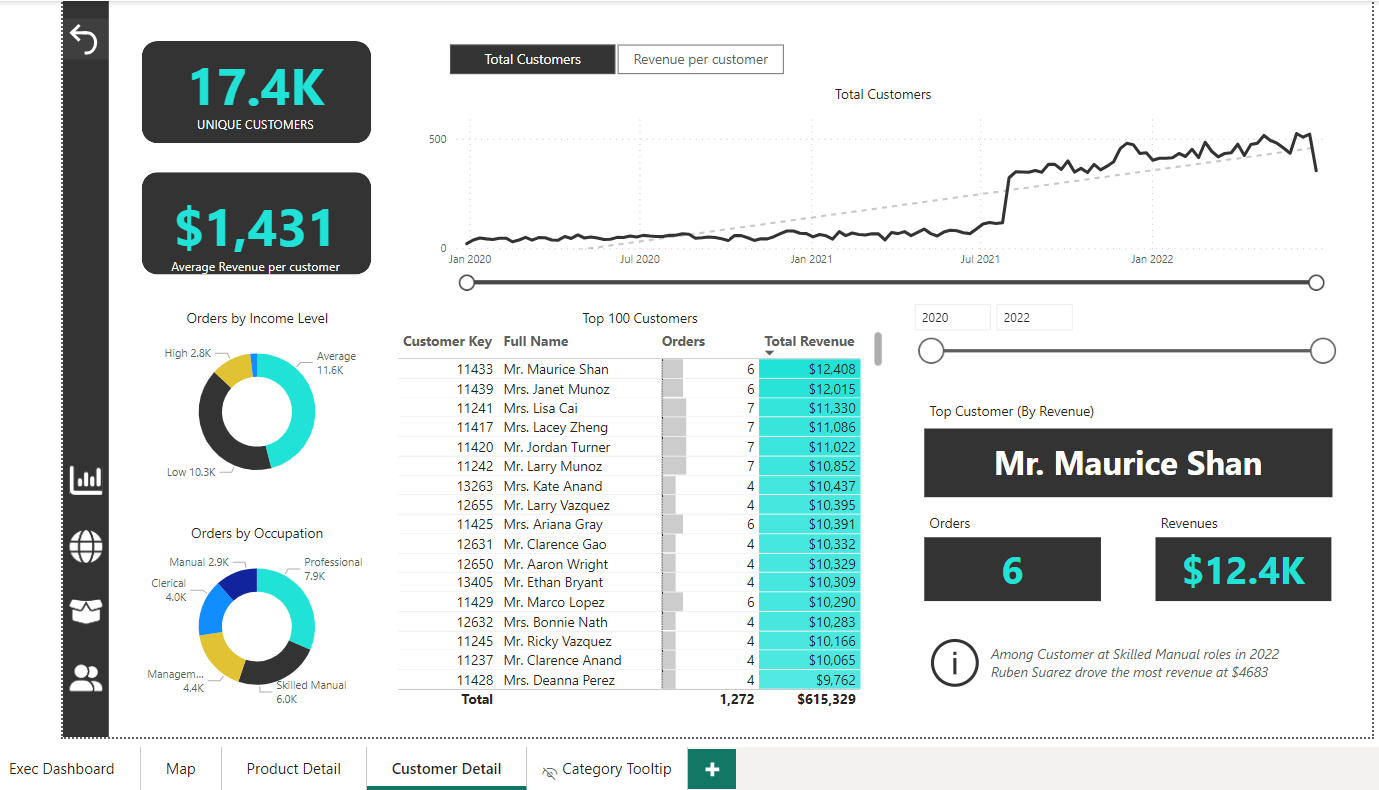

This screenshot's page, from the dashboard's own definition file:
{"tool":"powerbi","page":{"name":"Customer Detail","canvas":[1280,720],"ordinal":3},"visuals":[{"type":"shape","box":[0,0,45,720],"z":0},{"type":"actionButton","box":[2.4,513,40.3,40.3],"z":0,"group":"g1"},{"type":"shape","box":[76.7,38.9,224.4,100],"z":1000},{"type":"actionButton","box":[2.4,448.6,40.3,40.3],"z":1000,"group":"g1"},{"type":"card","fields":{"Values":["Measure Table.Total Customers"]},"box":[55.6,13.3,266.7,150],"z":2000},{"type":"actionButton","box":[2.4,577.4,40.3,40.3],"z":2000,"group":"g1"},{"type":"lineChart","fields":{"Y":["Measure Table.Total Customers"],"Category":["Calendar Lookup.Date Hierarchy.Start of Year","Calendar Lookup.Date Hierarchy.Start of Month","Calendar Lookup.Date Hierarchy.Start of Week","Calendar Lookup.Date Hierarchy.Date"]},"box":[352.1,81.9,899.7,204.1],"z":2500},{"type":"shape","box":[76.7,167.1,224.4,100],"z":3000},{"type":"actionButton","box":[2.4,641.7,40.3,40.3],"z":3000,"group":"g1"},{"type":"card","fields":{"Values":["Measure Table.Average Revenue per customer"]},"box":[55.6,151.1,266.7,150],"z":4000},{"type":"donutChart","title":"Orders by Income Level","fields":{"Category":["Customer Lookup.Income Level"],"Y":["Measure Table.Total Orders"]},"box":[76.5,301.2,225.9,184.7],"z":6000},{"type":"donutChart","title":"Orders by Occupation","fields":{"Y":["Measure Table.Total Orders"],"Category":["Customer Lookup.Occupation"]},"box":[76.7,511.1,225.6,184.4],"z":7000},{"type":"tableEx","title":"Top 100 Customers","fields":{"Values":["Customer Lookup.CustomerKey","Customer Lookup.Full Name","Measure Table.Total Orders","Measure Table.Total Revenue"]},"box":[321.5,300.7,485.3,396.1],"z":8000},{"type":"card","fields":{"Values":["Customer Lookup.Full Name (Customer Detail)"]},"box":[842.2,417.5,398.8,67.1],"z":9000},{"type":"card","fields":{"Values":["Measure Table.Total Orders (Customer Details)"]},"box":[842.2,524.5,172.9,62.4],"z":10000},{"type":"card","fields":{"Values":["Measure Table.Total Revenue (Customer Detail)"]},"box":[1068.4,524.4,172.4,62.3],"z":11000},{"type":"textbox","box":[1068,496.3,172.9,43.5],"z":12000},{"type":"textbox","box":[842.2,496.3,194.1,43.5],"z":13000},{"type":"textbox","box":[842.2,386.9,287.1,43.5],"z":14000},{"type":"slicer","fields":{"Values":["Calendar Lookup.Date.Variation.Date Hierarchy.Year"]},"box":[820.2,286,432.7,89.2],"z":15000},{"type":"actionButton","box":[842.2,617.3,369.2,59.9],"z":16000},{"type":"actionButton","box":[0,17.1,45.2,40.3],"z":17000},{"type":"group","id":"g1","title":"Navigation Button","box":[2.4,448.6,41.6,233.5],"z":18000},{"type":"slicer","fields":{"Values":["Customer Metric Solution.Customer Metric Solution"]},"box":[352.1,35.4,376.5,42.8],"z":19001}]}

Visuals, with their boxes on the page's 1280x720 design canvas (x1, y1, x2, y2). These are canvas units, not pixel positions in the 1379x790 screenshot, which may show the page scaled, cropped or inside an application window:
shape: 0:0:45:720
actionButton: 2:513:43:553
shape: 77:39:301:139
actionButton: 2:449:43:489
card - Measure Table.Total Customers: 56:13:322:163
actionButton: 2:577:43:618
lineChart - Measure Table.Total Customers x Calendar Lookup.Date Hierarchy.Start of Year: 352:82:1252:286
shape: 77:167:301:267
actionButton: 2:642:43:682
card - Measure Table.Average Revenue per customer: 56:151:322:301
"Orders by Income Level" donutChart: 76:301:302:486
"Orders by Occupation" donutChart: 77:511:302:696
"Top 100 Customers" tableEx: 322:301:807:697
card - Customer Lookup.Full Name (Customer Detail): 842:418:1241:485
card - Measure Table.Total Orders (Customer Details): 842:524:1015:587
card - Measure Table.Total Revenue (Customer Detail): 1068:524:1241:587
textbox: 1068:496:1241:540
textbox: 842:496:1036:540
textbox: 842:387:1129:430
slicer - Calendar Lookup.Date.Variation.Date Hierarchy.Year: 820:286:1253:375
actionButton: 842:617:1211:677
actionButton: 0:17:45:57
"Navigation Button" group: 2:449:44:682
slicer - Customer Metric Solution.Customer Metric Solution: 352:35:729:78
